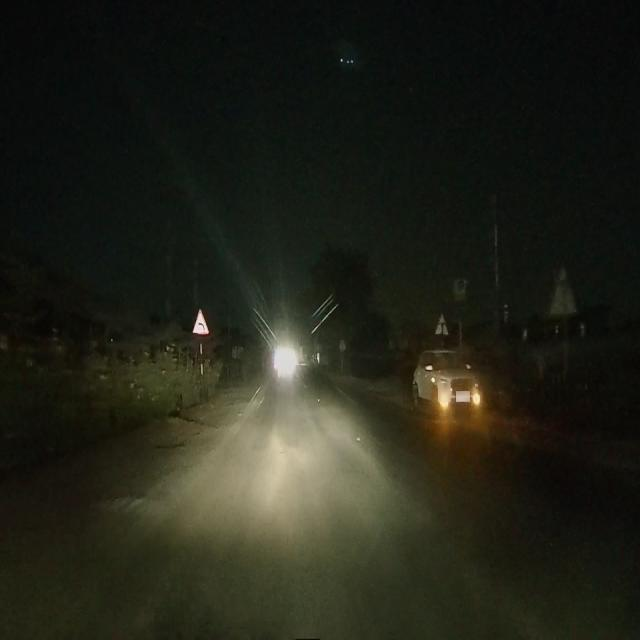left-hand-curve: (195, 307, 207, 334)
